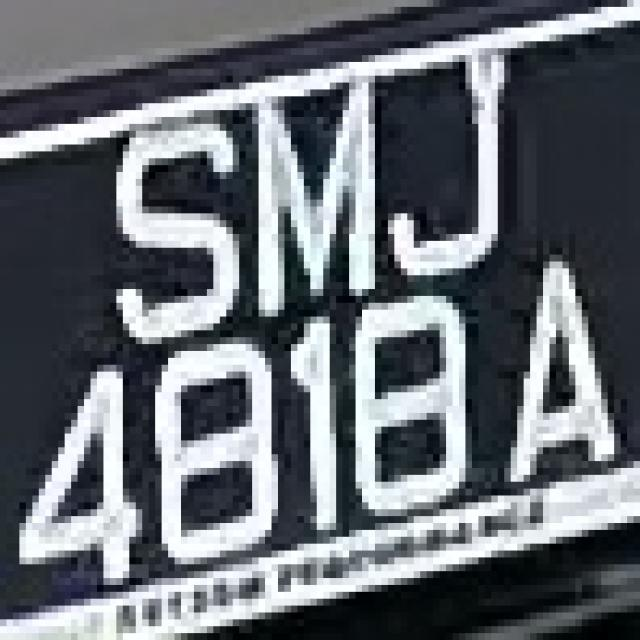1: (278, 276, 349, 558)
4: (19, 330, 142, 626)
8: (330, 248, 491, 530), (136, 324, 291, 571)
A: (498, 220, 627, 496)
J: (401, 21, 524, 289)
M: (213, 55, 414, 317)
S: (91, 69, 252, 358)
